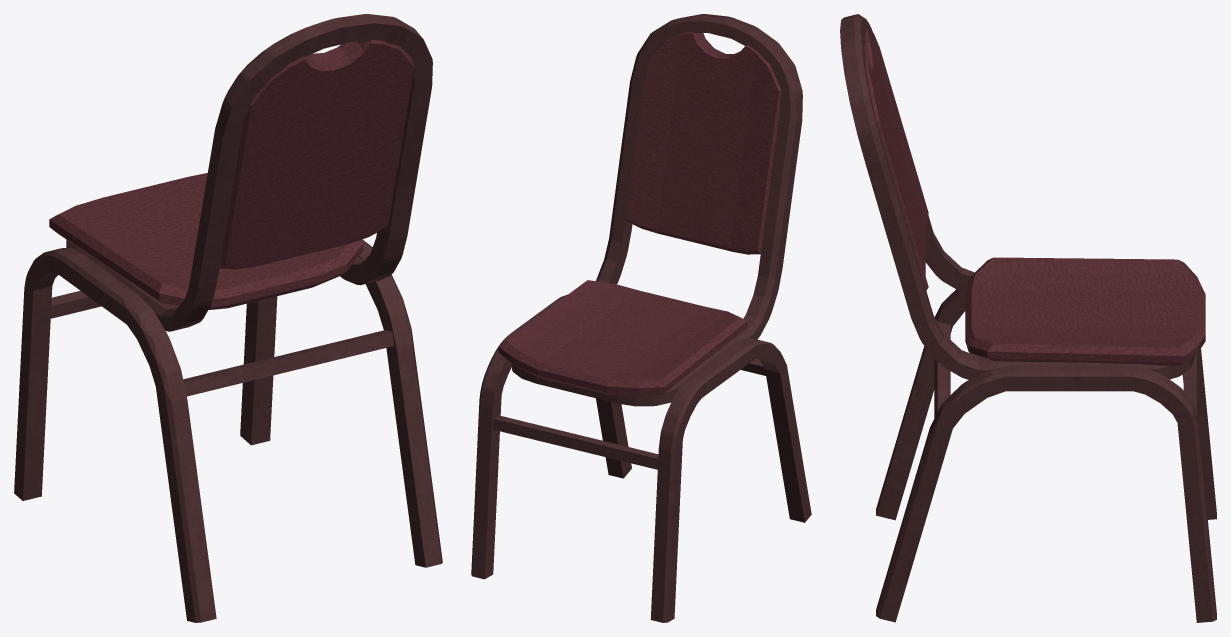
Rendered from Kahve Sandalye.fbx.
3 renders of one model, left to right at view 1: azimuth 30°, elevation 25°; view 2: azimuth 150°, elevation 25°; view 3: azimuth 270°, elevation 25°, orthographic. The views are drawn at different scales.
Visible parts, largest first — view 1: Sandalye; view 2: Sandalye; view 3: Sandalye.
Part boxes in pixels (x1,y1,x2,y2): Sandalye: (14, 14, 442, 622); Sandalye: (471, 14, 811, 622); Sandalye: (840, 14, 1216, 622).
Bounding box in the file's own units: 39 × 88.74 × 56.11.
2 materials, 2 textured.
